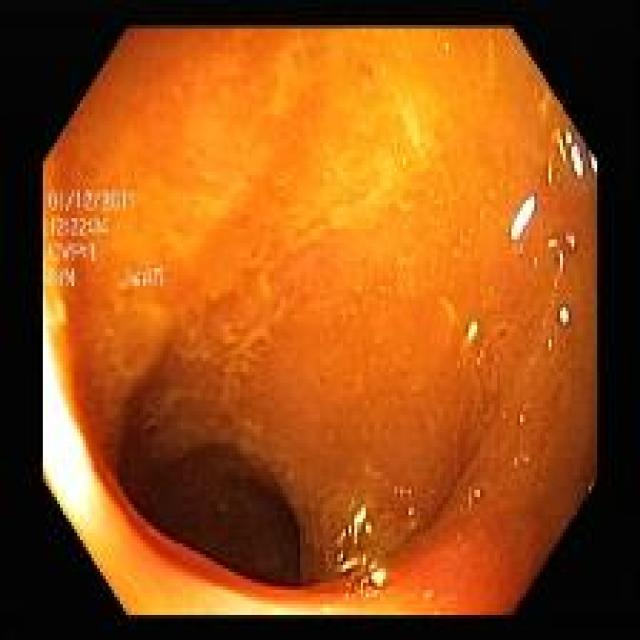ulcerative-colitis: (44, 28, 596, 615)
